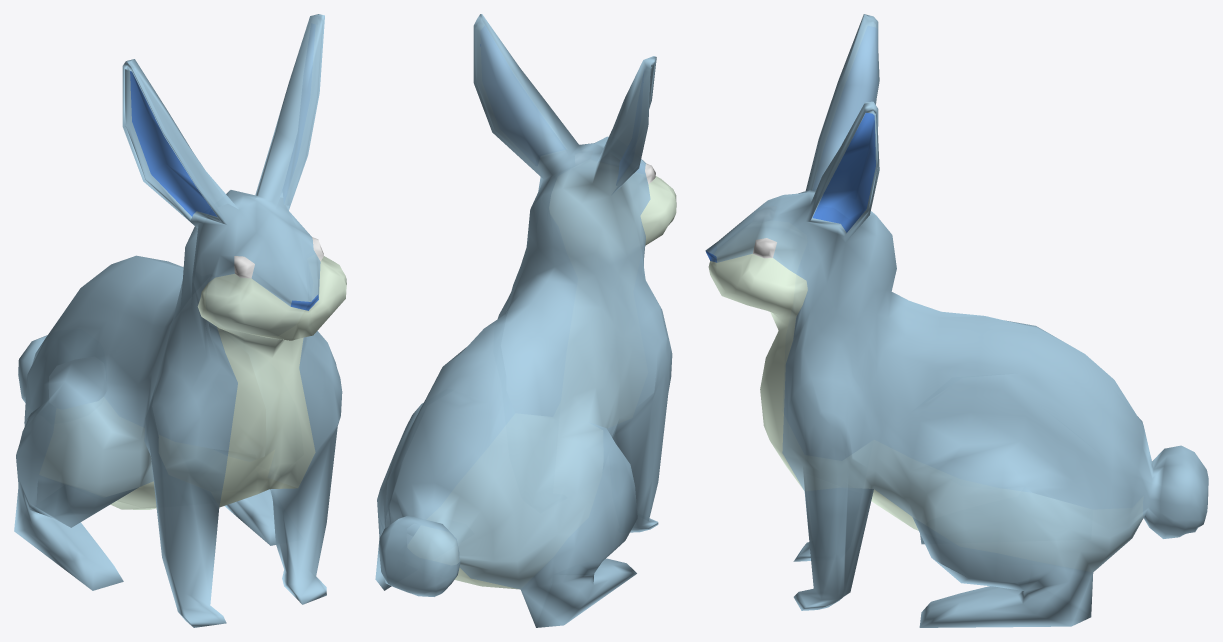
The model's file is rabbit poly pls2 smooth.fbx.
3 views of the same model, side by side, from view 1: azimuth 30°, elevation 25°; view 2: azimuth 150°, elevation 25°; view 3: azimuth 270°, elevation 25° (orthographic). The views are drawn at different scales.
Visible parts, largest first — view 1: Plane; view 2: Plane; view 3: Plane.
Part boxes in pixels (x1=…): Plane: x1=14, y1=14, x2=346, y2=627; Plane: x1=375, y1=14, x2=676, y2=627; Plane: x1=705, y1=14, x2=1208, y2=627.
Bounding box in the file's own units: 39.25 × 87.22 × 76.25.
